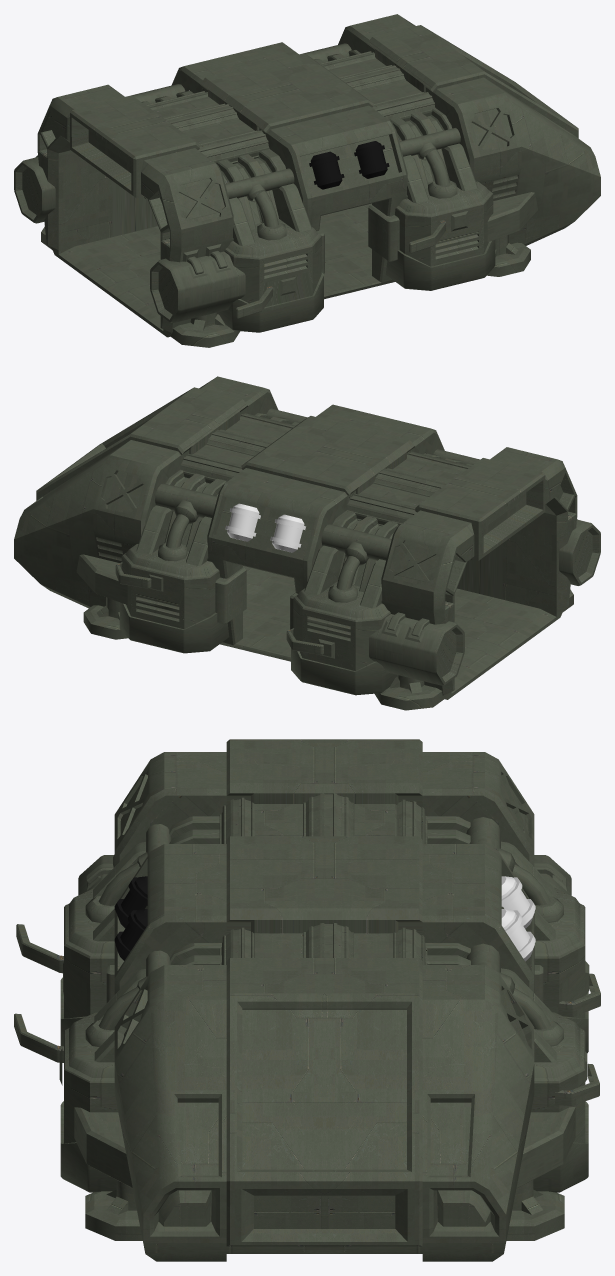
File: Dropship.fbx
The picture shows the model from 3 angles, top to bottom: view 1: azimuth 30°, elevation 25°; view 2: azimuth 150°, elevation 25°; view 3: azimuth 270°, elevation 25°; orthographic projection. The views are drawn at different scales.
Visible parts, largest first — view 1: Object001, Cylinder064, Cylinder063, Cylinder026, Object049, Object055, Box011, Cylinder087, Box038, Object042, Box030, Cylinder092 (+17 smaller); view 2: Object001, Cylinder064, Cylinder063, Cylinder026, Box011, Object049, Cylinder044, Box038, Object055, Cylinder095, Object042, Cylinder043 (+16 smaller); view 3: Object001, Cylinder064, Cylinder063, Box011, Object039, Object049, Cylinder092, Object055, Cylinder094, Cylinder030, Cylinder087, Cylinder095 (+14 smaller).
Part boxes in pixels (bbox=[...]): Object001: bbox=[37, 14, 600, 337]; Cylinder064: bbox=[385, 181, 495, 290]; Cylinder063: bbox=[217, 218, 323, 332]; Cylinder026: bbox=[14, 157, 245, 322]; Object049: bbox=[141, 91, 285, 229]; Object055: bbox=[314, 50, 452, 188]; Box011: bbox=[487, 192, 537, 241]; Cylinder087: bbox=[198, 130, 269, 163]; Box038: bbox=[368, 205, 399, 261]; Object042: bbox=[41, 226, 239, 347]; Box030: bbox=[272, 183, 311, 232]; Cylinder092: bbox=[164, 103, 238, 132]; Object001: bbox=[14, 376, 577, 699]; Cylinder064: bbox=[119, 544, 229, 653]; Cylinder063: bbox=[291, 581, 396, 695]; Cylinder026: bbox=[369, 519, 600, 685]; Box011: bbox=[76, 554, 127, 604]; Object049: bbox=[332, 453, 473, 592]; Cylinder044: bbox=[321, 524, 391, 560]; Box038: bbox=[215, 567, 246, 624]; Object055: bbox=[164, 412, 299, 551]; Cylinder095: bbox=[346, 493, 416, 525]; Object042: bbox=[374, 589, 573, 710]; Cylinder043: bbox=[155, 483, 217, 517]; Object001: bbox=[114, 739, 534, 1261]; Cylinder064: bbox=[60, 1012, 588, 1192]; Cylinder063: bbox=[60, 887, 588, 1053]; Box011: bbox=[74, 1107, 575, 1188]; Object039: bbox=[85, 1191, 564, 1240]; Object049: bbox=[169, 816, 470, 843]; Cylinder092: bbox=[303, 793, 354, 836]; Object055: bbox=[170, 943, 470, 964]; Cylinder094: bbox=[303, 923, 353, 957]; Cylinder030: bbox=[106, 1180, 542, 1214]; Cylinder087: bbox=[219, 797, 254, 843]; Cylinder095: bbox=[396, 799, 427, 843].
Bounding box in the file's own units: 1585 × 554 × 1199.
